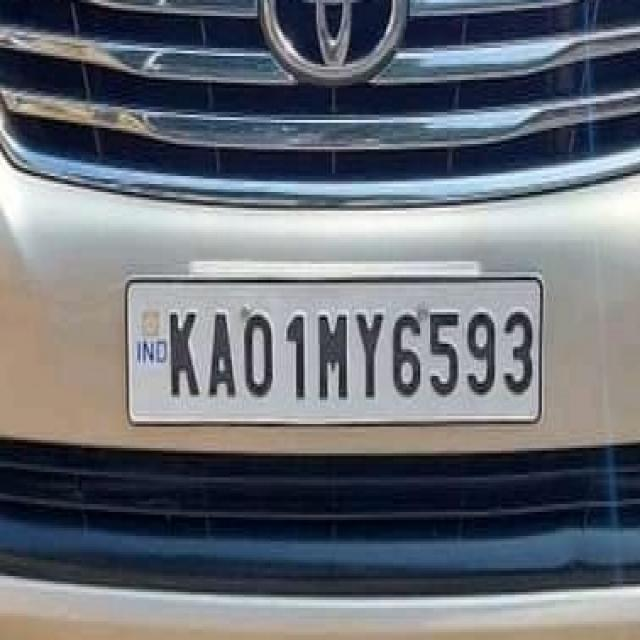0: (242, 308, 276, 400)
1: (280, 308, 309, 410)
3: (501, 306, 535, 400)
5: (426, 302, 463, 399)
6: (390, 302, 422, 408)
9: (467, 308, 497, 398)
A: (206, 302, 238, 409)
K: (164, 304, 204, 402)
M: (314, 308, 352, 407)
Y: (354, 308, 386, 406)
